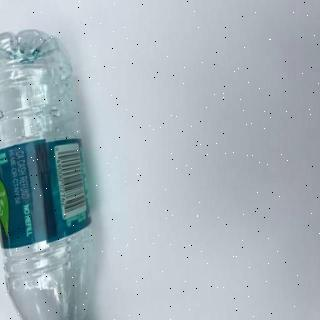Plastic-bottle: (1, 28, 97, 320)
